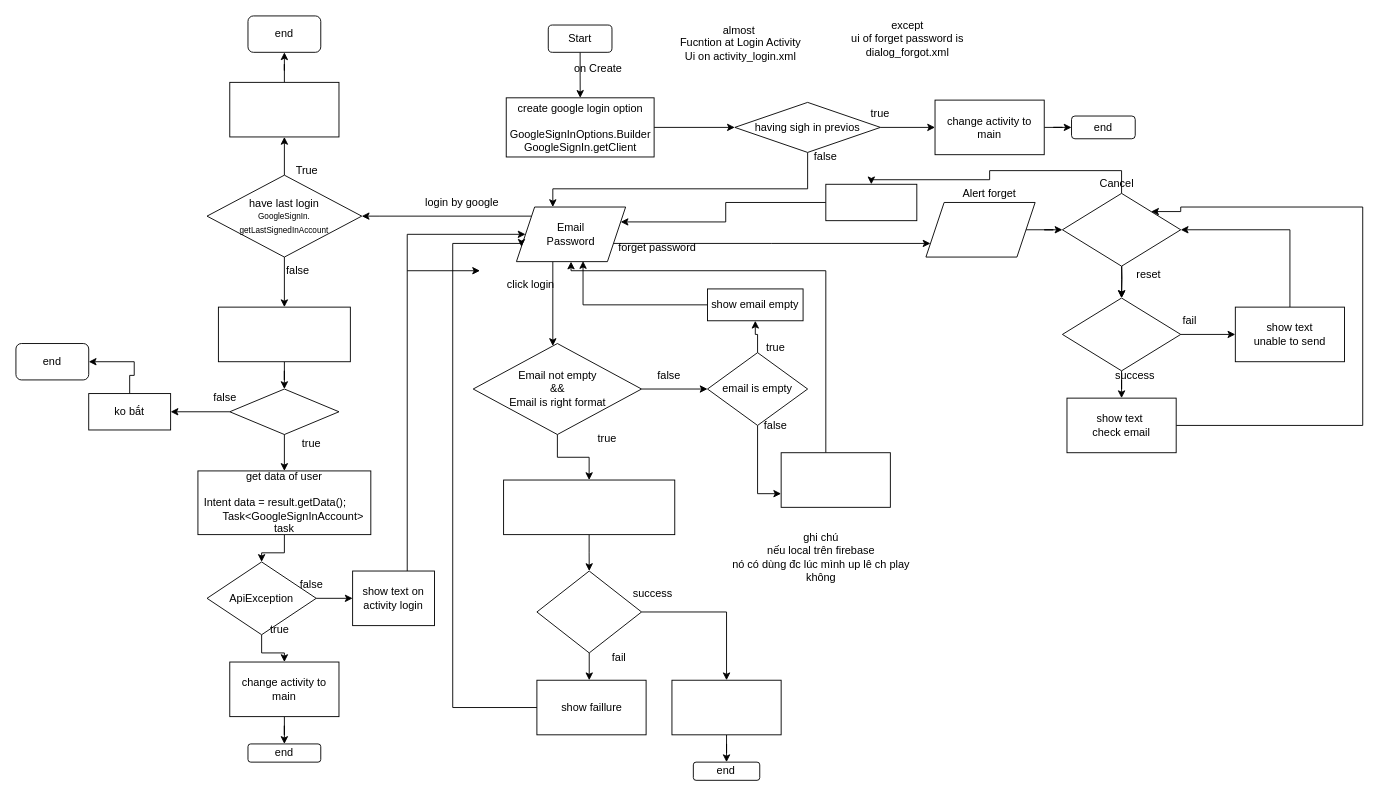
Image size: 1386x796. Some labels were removed from this diagram. The shapes that lost their labels are listed below. From the top down, each one's box as (x1, y1, x2, y2) in pixels, then its label:
(229, 81, 339, 137): change to main activity
(825, 183, 917, 221): set backgroud color of dialog to 0
(925, 202, 1035, 257): email
(1062, 192, 1181, 266): cancle or reset
(217, 306, 350, 362): change to google login activity ActivityResultLauncher
(1062, 297, 1181, 371): Is send email success
(229, 388, 339, 435): is login success
(780, 452, 890, 507): show text please input correct email
(503, 479, 675, 535): search email,pass though fire base auth.signInWithEmailAndPassword (email, pass)
(536, 570, 642, 653): success or fail
(671, 679, 781, 735): show success login change activity to main
